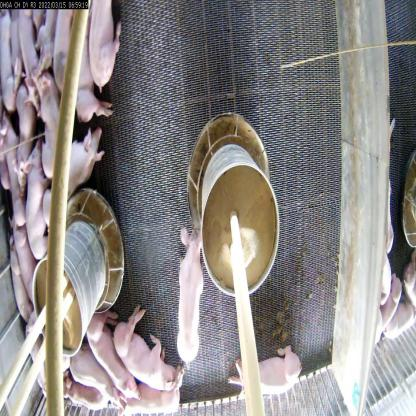Pig: (171, 213, 214, 366), (222, 338, 306, 410), (23, 144, 65, 281), (116, 308, 181, 390), (62, 7, 105, 117), (83, 0, 123, 112), (46, 136, 109, 202), (56, 352, 124, 406), (81, 323, 133, 393), (30, 66, 60, 166)
